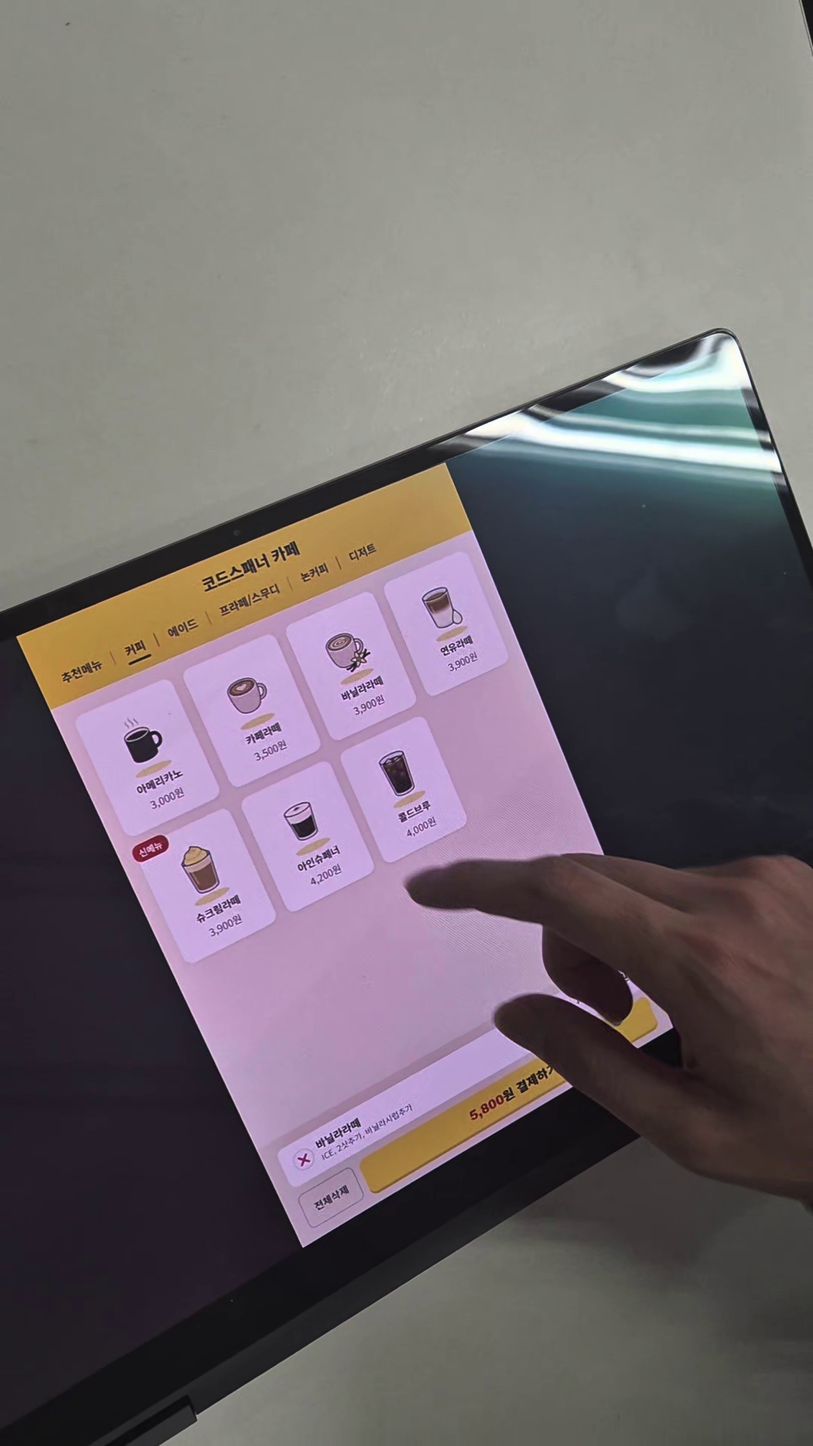action_button: (360, 996, 658, 1195), (297, 1164, 365, 1230)
cart_item: (278, 957, 643, 1185)
category_tab: (209, 576, 288, 627), (54, 651, 110, 693), (338, 536, 386, 572), (158, 612, 208, 644), (293, 556, 337, 590), (115, 634, 155, 666)
menu_back: (70, 676, 223, 841), (129, 806, 277, 964), (180, 630, 323, 786), (239, 756, 377, 913), (282, 589, 419, 742), (338, 713, 471, 864), (379, 549, 511, 696)
menu_name: (192, 889, 247, 927), (133, 765, 185, 800), (236, 715, 288, 750), (335, 671, 387, 706), (430, 628, 482, 663), (293, 841, 345, 876), (388, 793, 440, 828)
menu_price: (439, 646, 489, 679), (198, 911, 249, 943), (141, 783, 191, 815), (245, 735, 295, 767), (345, 690, 395, 722), (302, 860, 352, 892), (398, 811, 448, 843)
